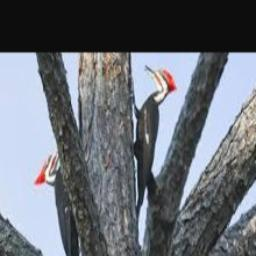Woodpecker: (129, 65, 176, 218), (34, 139, 81, 256)
